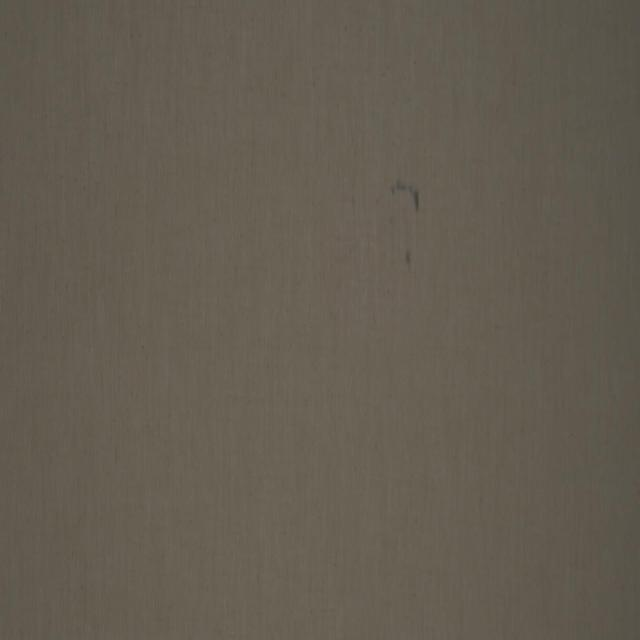dirty: (390, 179, 420, 211), (406, 248, 412, 264)
